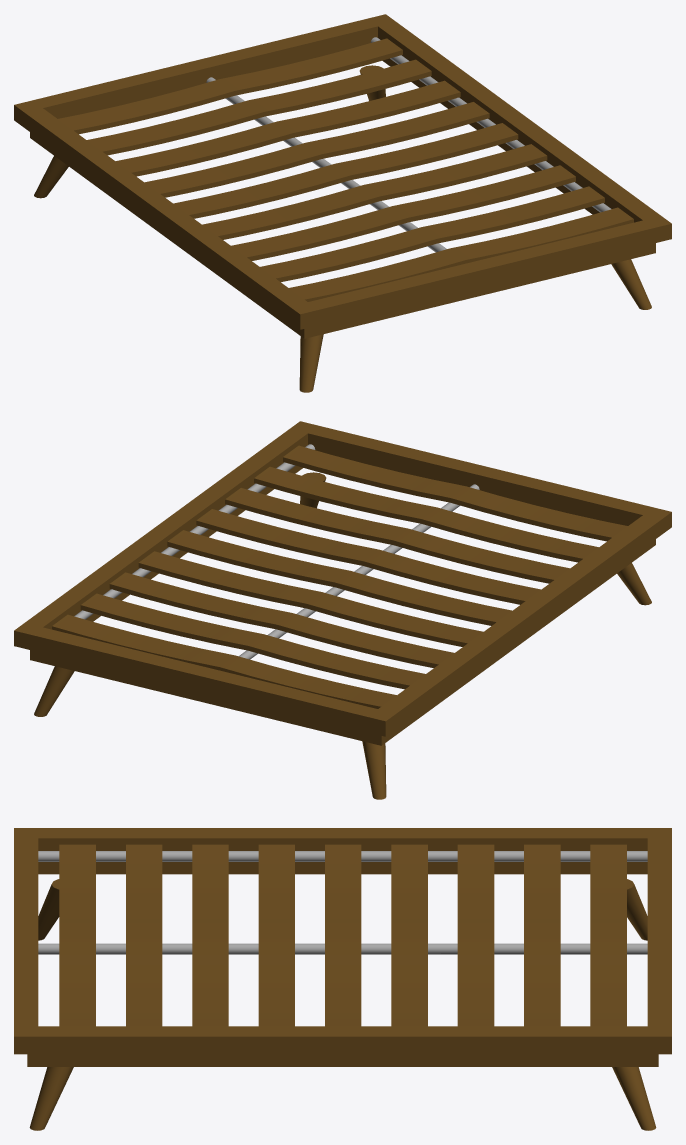
Rendered from bedframe.fbx.
3 renders of one model, top to bottom at view 1: azimuth 30°, elevation 25°; view 2: azimuth 150°, elevation 25°; view 3: azimuth 270°, elevation 25°, orthographic. The views are drawn at different scales.
Visible parts, largest first — view 1: bedframe; view 2: bedframe; view 3: bedframe.
Boxes of the visible parts, left/top/right/bottom form: bedframe: left=14, top=14, right=671, bottom=392; bedframe: left=14, top=421, right=671, bottom=799; bedframe: left=14, top=828, right=671, bottom=1130.
Bounding box in the file's own units: 150 × 200 × 33.56.
